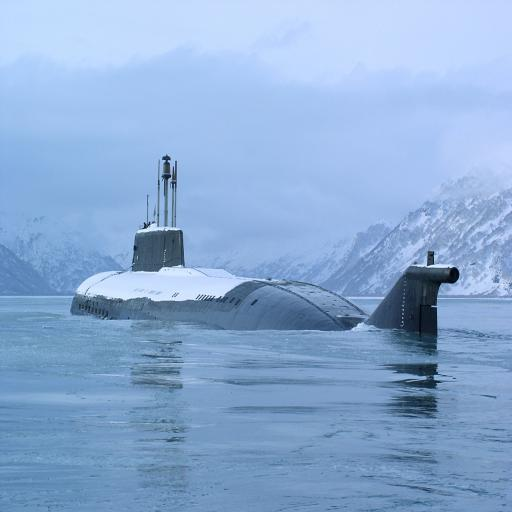submarine: (69, 150, 463, 350)
